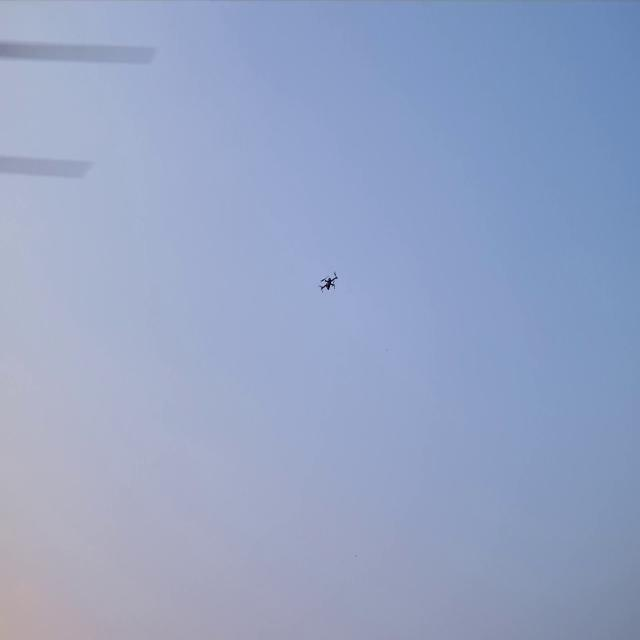UAV: (317, 267, 338, 295)
